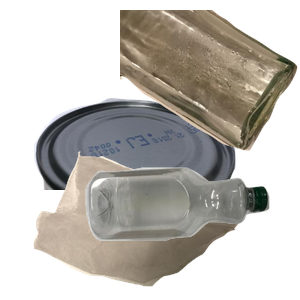glass: (120, 10, 300, 153)
metal: (16, 96, 244, 276)
plastic: (83, 165, 300, 300)
trash: (31, 149, 268, 300)
